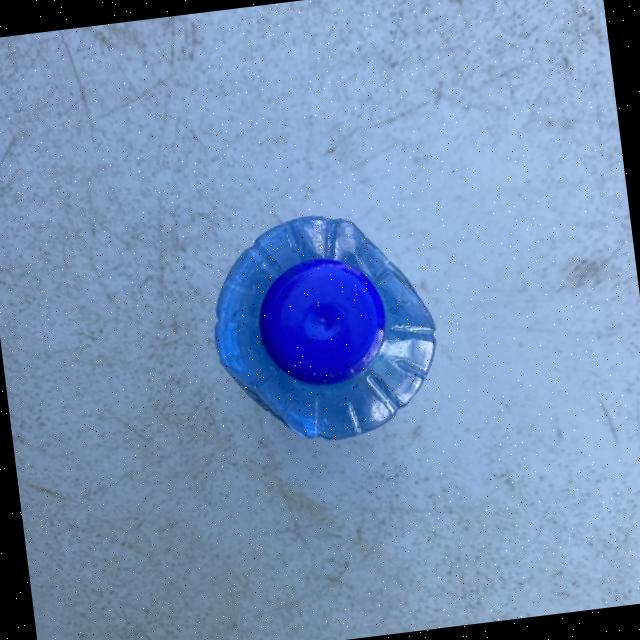plastic: (198, 199, 448, 452)
